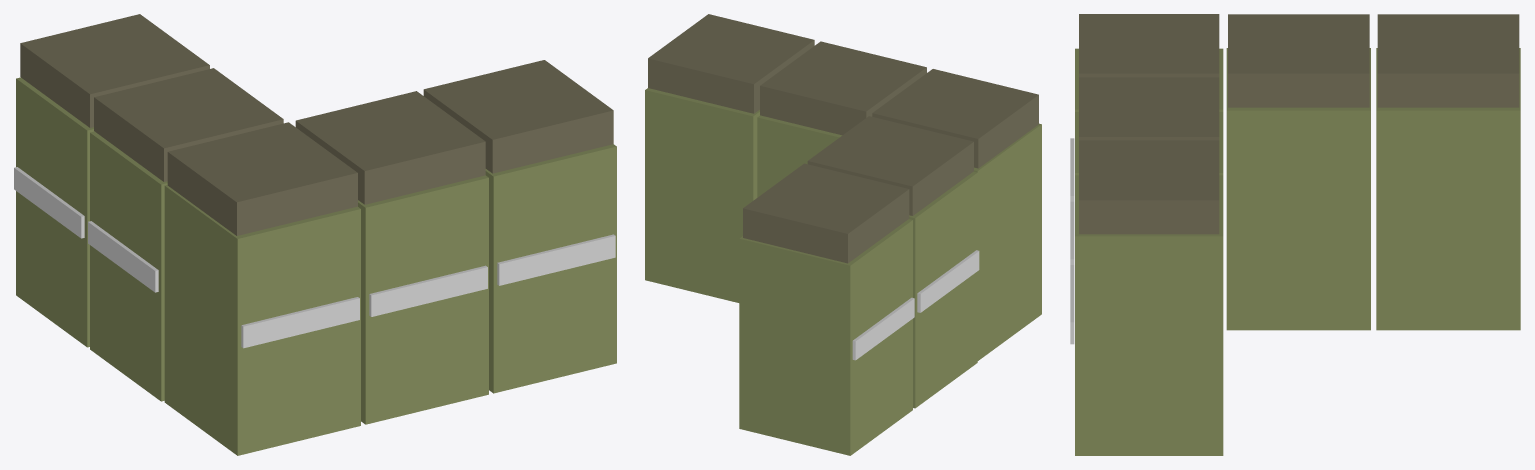
File: SM_HescoEsquina_v3_RemateSacos_e0_Sano_LOD1.fbx
The picture shows the model from 3 angles, left to right: view 1: azimuth 30°, elevation 25°; view 2: azimuth 150°, elevation 25°; view 3: azimuth 270°, elevation 25°; orthographic projection. The views are drawn at different scales.
Visible parts, largest first — view 1: SM_hesco_piezas_v12_LOD1; view 2: SM_hesco_piezas_v12_LOD1; view 3: SM_hesco_piezas_v12_LOD1.
Part boxes in pixels (box(x1,y1,x2,y2)): SM_hesco_piezas_v12_LOD1: box(14, 14, 616, 455); SM_hesco_piezas_v12_LOD1: box(645, 14, 1041, 455); SM_hesco_piezas_v12_LOD1: box(1070, 14, 1520, 455).
Bounding box in the file's own units: 3.34 × 2.09 × 3.34.
